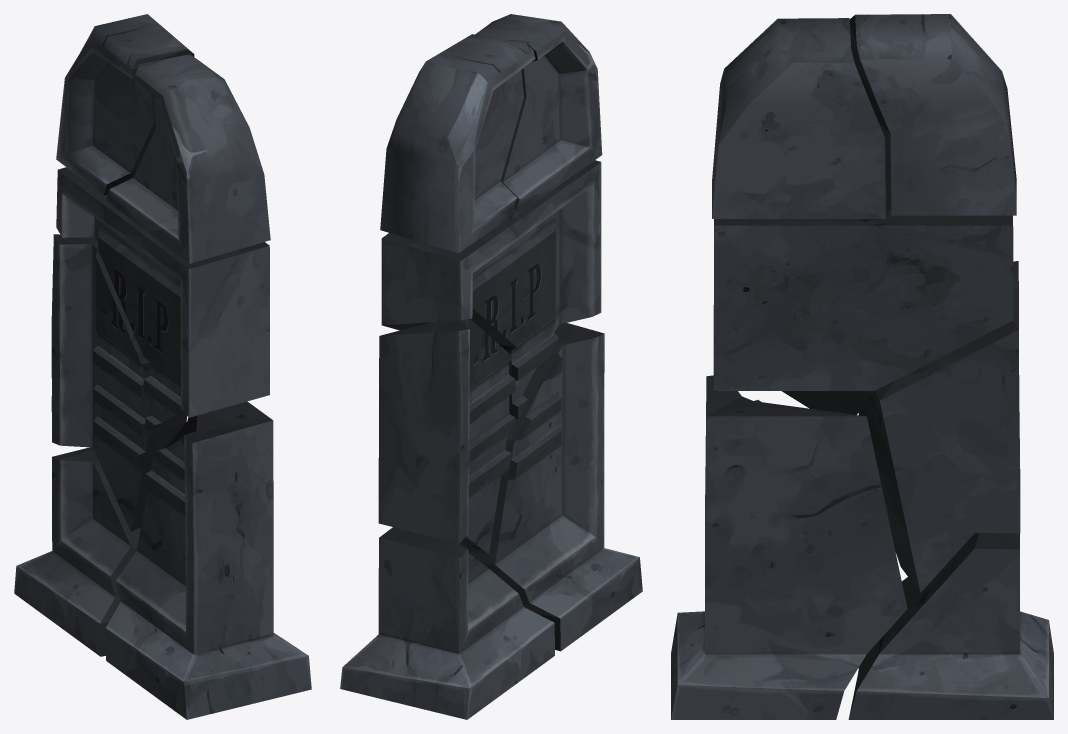
The model's file is tombstone_split.FBX.
The picture shows the model from 3 angles, left to right: view 1: azimuth 30°, elevation 25°; view 2: azimuth 150°, elevation 25°; view 3: azimuth 270°, elevation 25°; orthographic projection. The views are drawn at different scales.
Visible parts, largest first — view 1: Fragment1, Fragment4, Fragment6, Fragment3, Fragment2, Fragment5; view 2: Fragment1, Fragment3, Fragment4, Fragment2, Fragment5, Fragment6; view 3: Fragment1, Fragment4, Fragment6, Fragment3, Fragment2, Fragment5.
Boxes of the visible parts, box(x1,y1,x2,y2) form: Fragment1: box(105, 401, 311, 719); Fragment4: box(56, 167, 269, 430); Fragment6: box(106, 54, 270, 263); Fragment3: box(51, 234, 187, 531); Fragment2: box(14, 447, 140, 656); Fragment5: box(56, 14, 194, 195); Fragment1: box(468, 323, 642, 651); Fragment3: box(378, 319, 515, 554); Fragment4: box(381, 160, 601, 419); Fragment2: box(340, 527, 554, 719); Fragment5: box(380, 34, 535, 253); Fragment6: box(475, 14, 602, 218); Fragment1: box(671, 375, 907, 719); Fragment4: box(713, 208, 1013, 414); Fragment6: box(712, 18, 890, 218); Fragment3: box(858, 261, 1020, 592); Fragment2: box(848, 532, 1053, 719); Fragment5: box(849, 14, 1016, 215).
Size of the model in its own units: 17.86 by 81.01 by 42.77.
Materials: 1 (1 with a texture image).
